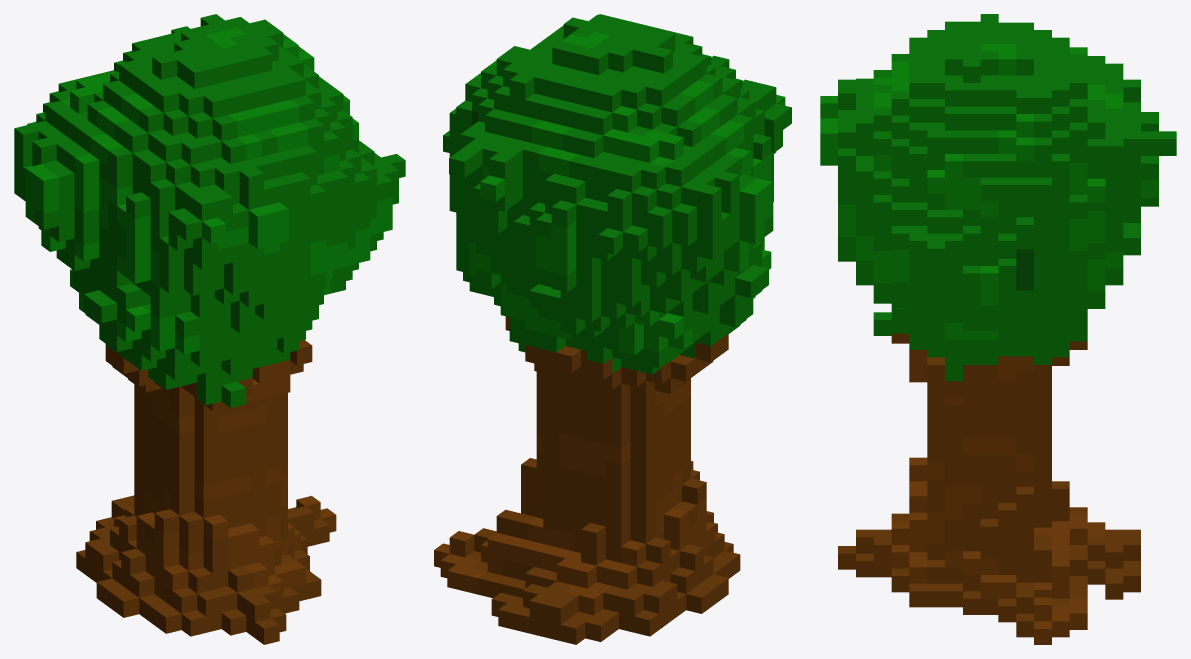
Rendered from Tree01.obj.
3 renders of one model, left to right at view 1: azimuth 30°, elevation 25°; view 2: azimuth 150°, elevation 25°; view 3: azimuth 270°, elevation 25°, orthographic.
Size of the model in its own units: 21 by 33 by 20.
1 material, 1 textured.
